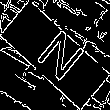N_SW: (25, 23, 85, 87)
